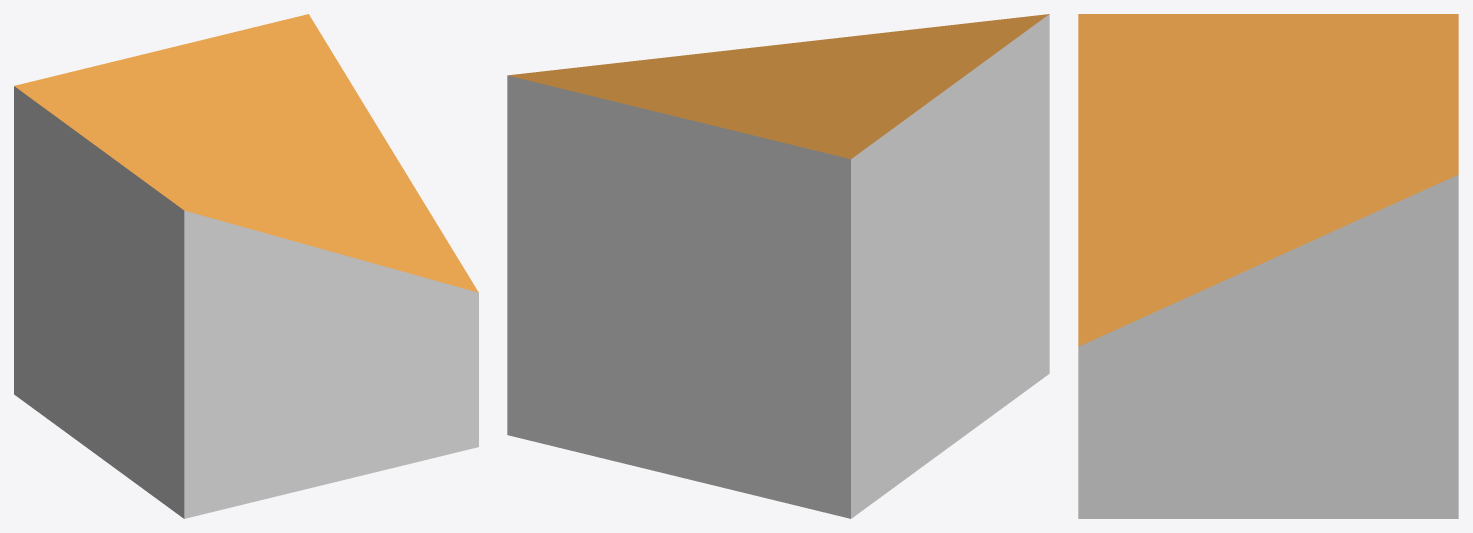
3 renders of one model, left to right at view 1: azimuth 30°, elevation 25°; view 2: azimuth 150°, elevation 25°; view 3: azimuth 270°, elevation 25°, orthographic. The views are drawn at different scales.
Visible parts, largest first — view 1: r1c5; view 2: r1c5; view 3: r1c5.
Part boxes in pixels (bbox=[...]): r1c5: bbox=[14, 14, 478, 518]; r1c5: bbox=[507, 14, 1049, 518]; r1c5: bbox=[1078, 14, 1458, 518].
Size of what is drawn, in the model's own units: 2 by 2 by 2.
Materials: 1 (1 with a texture image).
